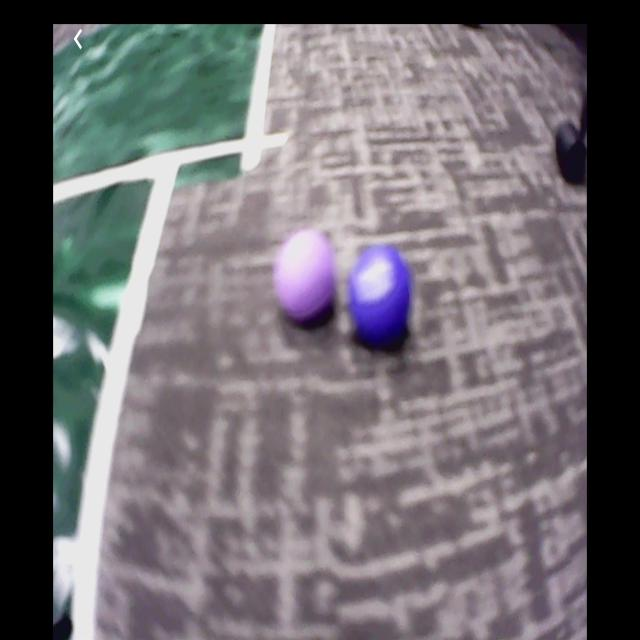ball: (350, 241, 412, 344), (278, 225, 338, 329)
